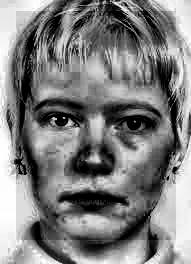sad: (16, 11, 176, 240)
